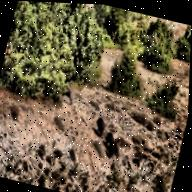boar: (91, 110, 110, 135), (104, 125, 120, 152)
